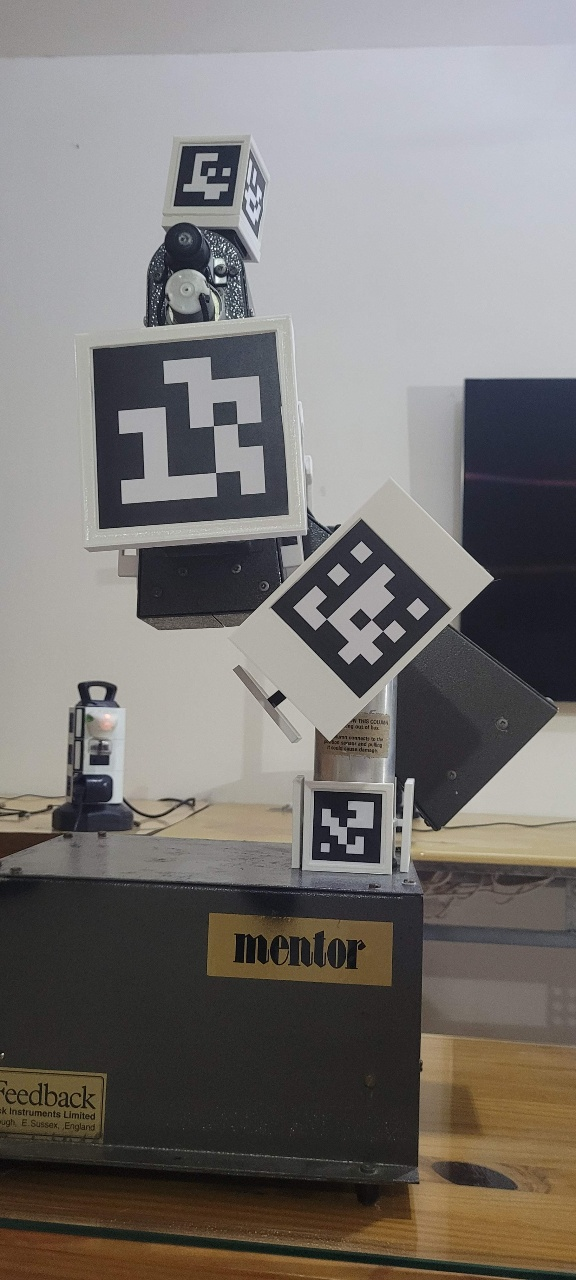Robot: (74, 134, 561, 875)
